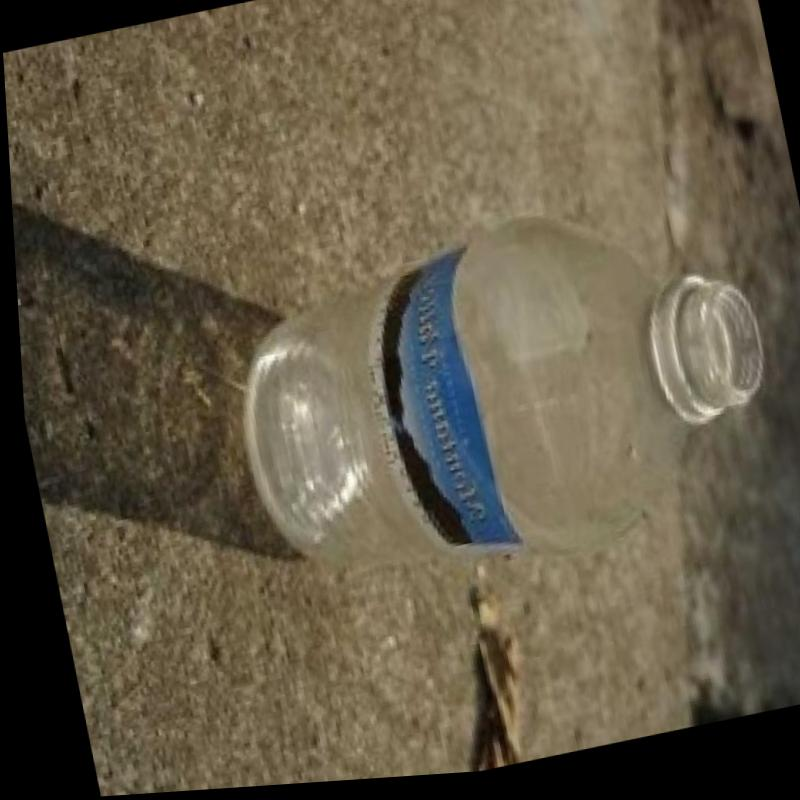botella: (206, 178, 790, 620)
